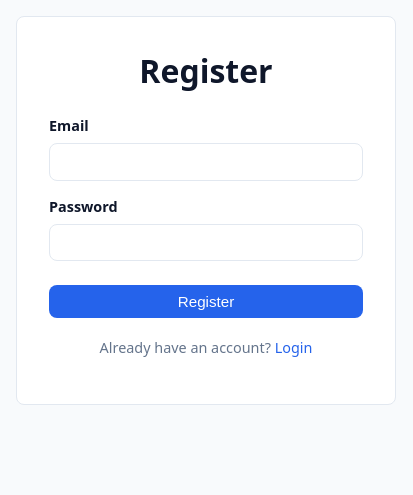
Test case: Register page › shows top-level message when no fieldErrors present
Type "dup@user.com" into the field labelled "Email".
click(206, 162); type("dup@user.com")  # box [49, 143, 363, 181]
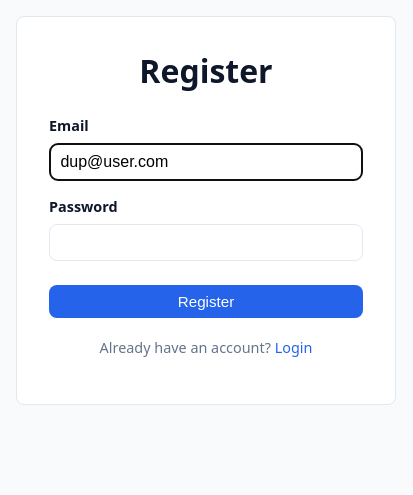
Type "password1" into the password field labelled "Password".
click(206, 242); type("password1")  # box [49, 224, 363, 261]
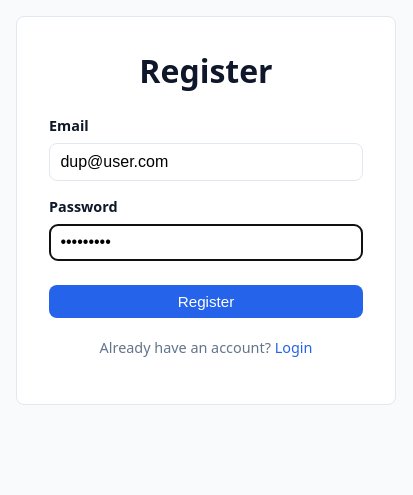
Click the button "Register".
click(206, 302)  # box [49, 285, 363, 318]
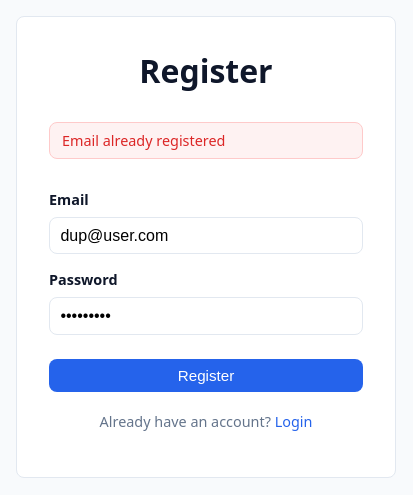
Now the text "Email already registered" is shown, box [49, 122, 363, 159]
